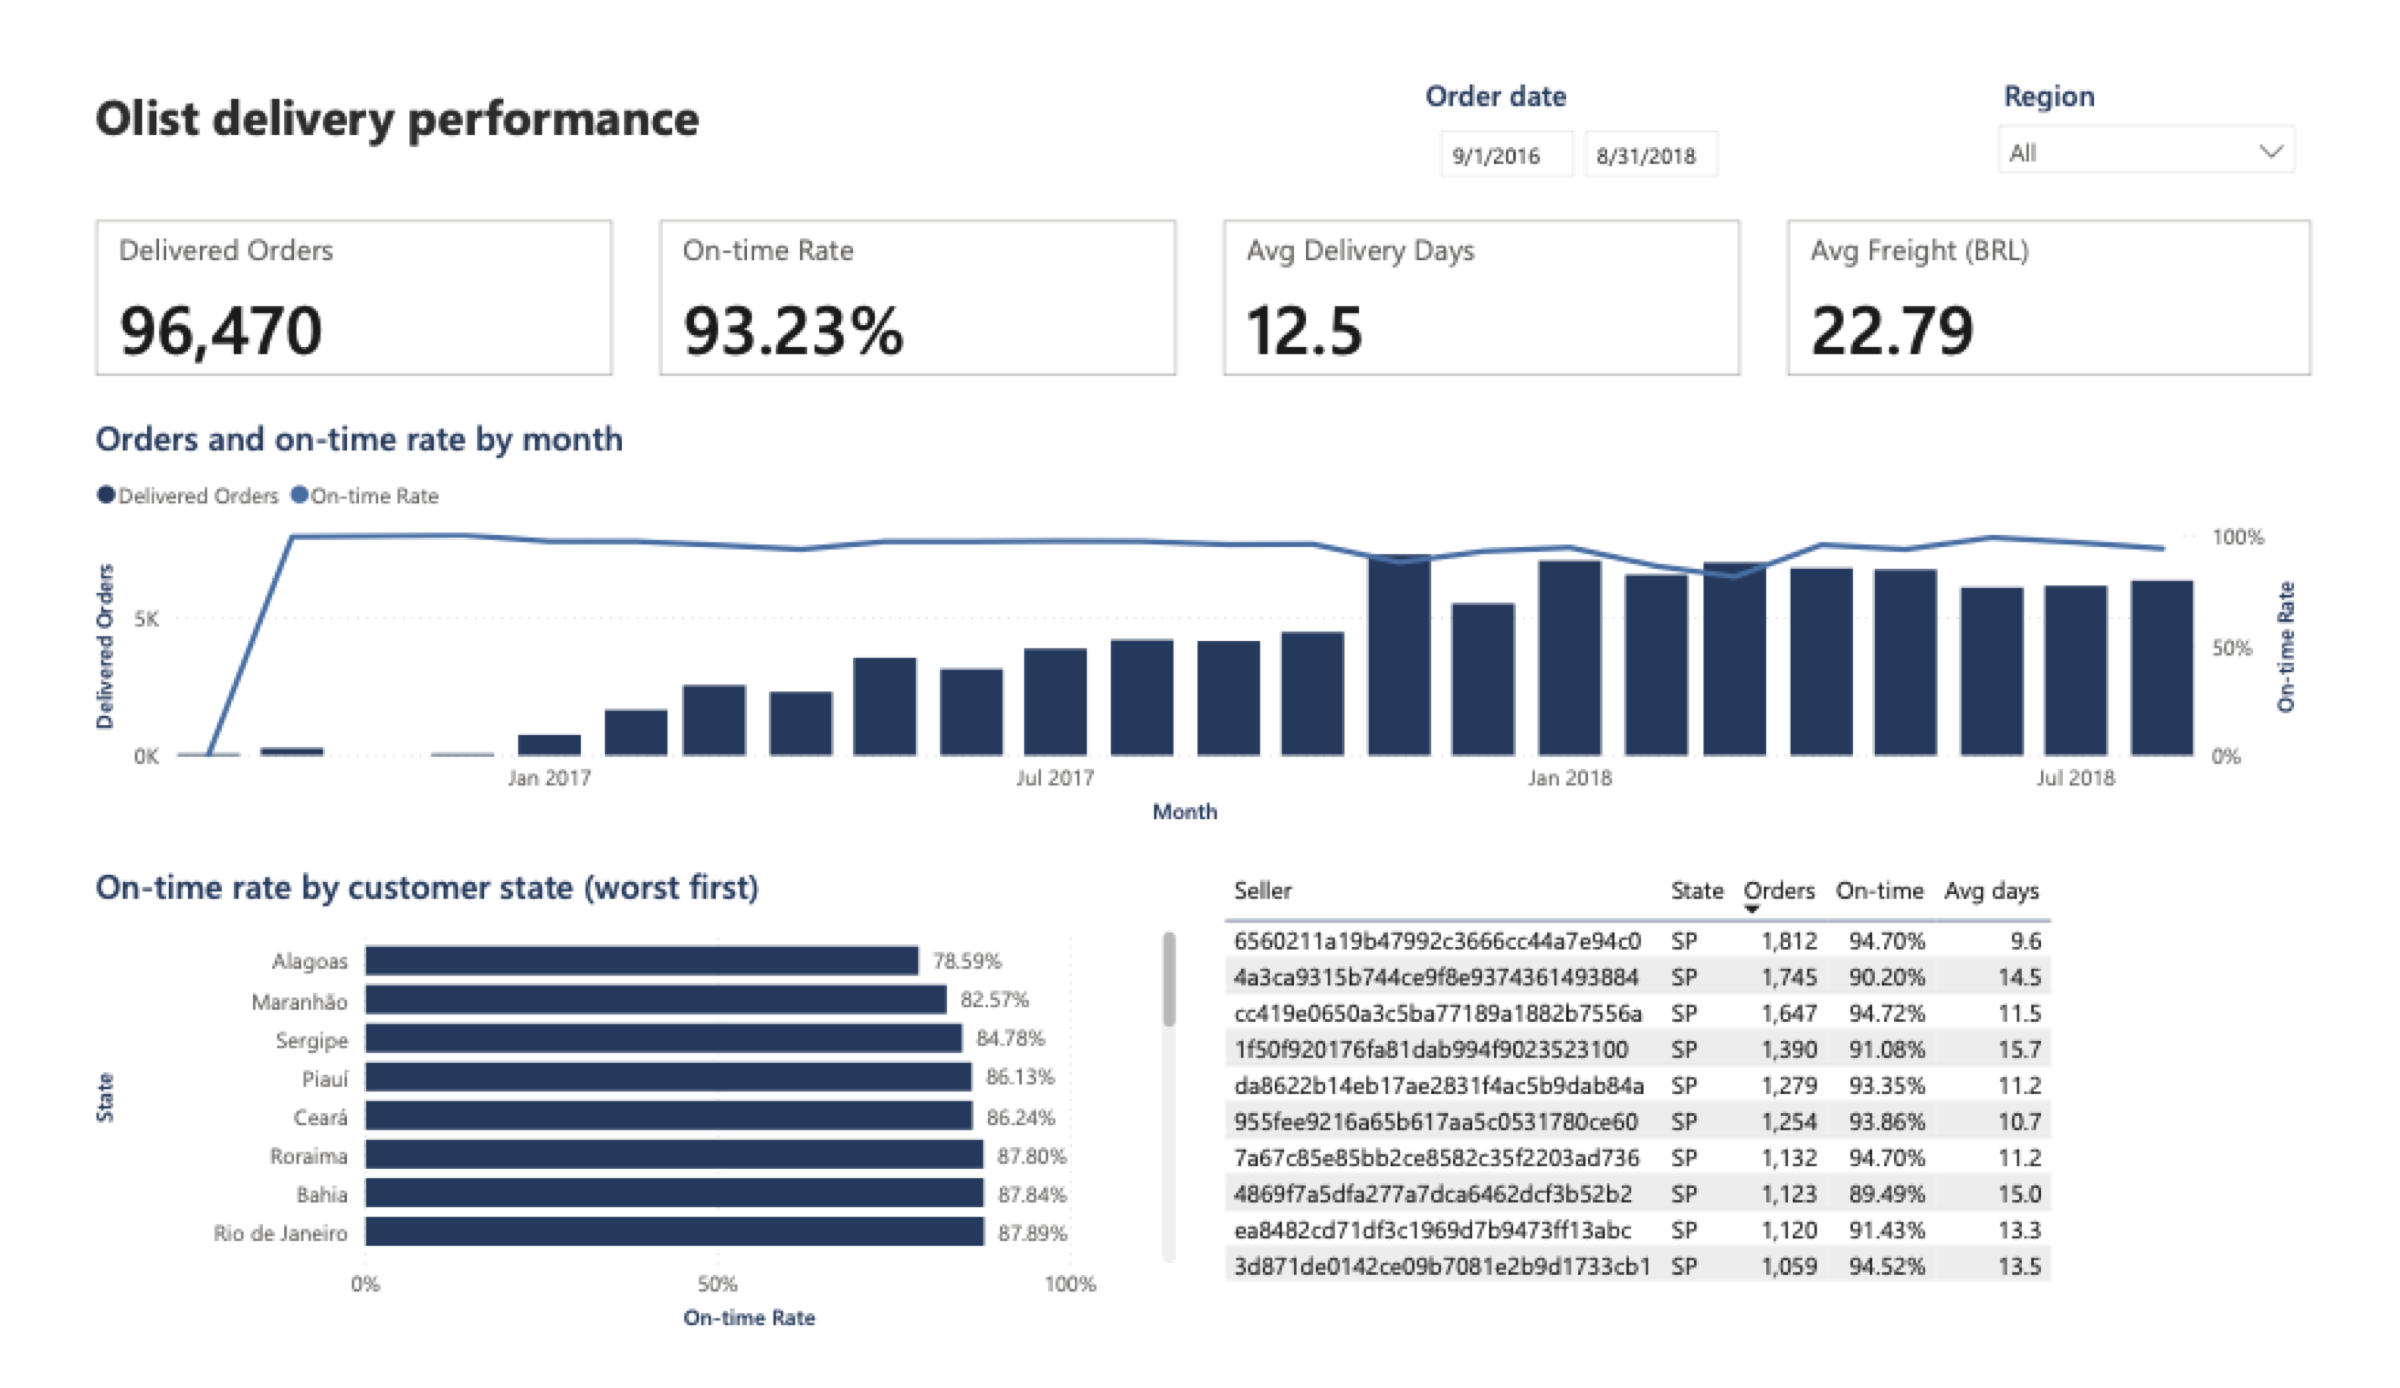

What the dashboard file says about the page in this screenshot:
{"tool":"powerbi","page":{"name":"Page 1","canvas":[1280,720],"ordinal":0},"visuals":[{"type":"textbox","box":[24,16,700,48],"z":0},{"type":"slicer","title":"Order date","fields":{"Values":["vw_bi_calendar.date"]},"box":[760,12,300,68],"z":1000},{"type":"slicer","fields":{"Values":["vw_bi_orders.customer_region"]},"box":[1072,12,184,68],"z":2000},{"type":"cardVisual","fields":{"Data":["_Measures.Avg Delivery Days"]},"box":[647.7,92.5,296,96],"z":3000},{"type":"cardVisual","fields":{"Data":["_Measures.Delivered Orders"]},"box":[23.7,92.5,296,96],"z":4000},{"type":"cardVisual","fields":{"Data":["_Measures.On-time Rate"]},"box":[335.7,92.5,296,96],"z":5000},{"type":"cardVisual","fields":{"Data":["_Measures.Avg Freight (BRL)"]},"box":[959.7,92.5,300,96],"z":6000},{"type":"lineClusteredColumnComboChart","title":"Orders and on-time rate by month","fields":{"Category":["vw_bi_calendar.month_start"],"Y":["_Measures.Delivered Orders"],"Y2":["_Measures.On-time Rate"]},"box":[23.7,204.5,1232,232],"z":7000},{"type":"clusteredBarChart","title":"On-time rate by customer state (worst first)","fields":{"Category":["vw_bi_orders.customer_state_name"],"Y":["_Measures.On-time Rate"]},"box":[23.7,452.5,608,264],"z":8000},{"type":"tableEx","fields":{"Values":["vw_bi_seller_leaderboard.seller_id","vw_bi_seller_leaderboard.seller_state","_Measures.Delivered Orders","_Measures.On-time Rate","_Measures.Avg Delivery Days"]},"box":[647.7,452.5,608,264],"z":9000}]}

Visuals, with their boxes in screenshot pixels (x1, y1, x2, y2), scaled from the page's 1280x720 canvas onto the 2400x1388 screenshot:
textbox: [x1=45, y1=31, x2=1358, y2=123]
"Order date" slicer: [x1=1425, y1=23, x2=1988, y2=154]
slicer - vw_bi_orders.customer_region: [x1=2010, y1=23, x2=2355, y2=154]
cardVisual - _Measures.Avg Delivery Days: [x1=1214, y1=178, x2=1769, y2=363]
cardVisual - _Measures.Delivered Orders: [x1=44, y1=178, x2=599, y2=363]
cardVisual - _Measures.On-time Rate: [x1=629, y1=178, x2=1184, y2=363]
cardVisual - _Measures.Avg Freight (BRL): [x1=1799, y1=178, x2=2362, y2=363]
"Orders and on-time rate by month" lineClusteredColumnComboChart: [x1=44, y1=394, x2=2354, y2=841]
"On-time rate by customer state (worst first)" clusteredBarChart: [x1=44, y1=872, x2=1184, y2=1381]
tableEx - vw_bi_seller_leaderboard.seller_id x vw_bi_seller_leaderboard.seller_state: [x1=1214, y1=872, x2=2354, y2=1381]
